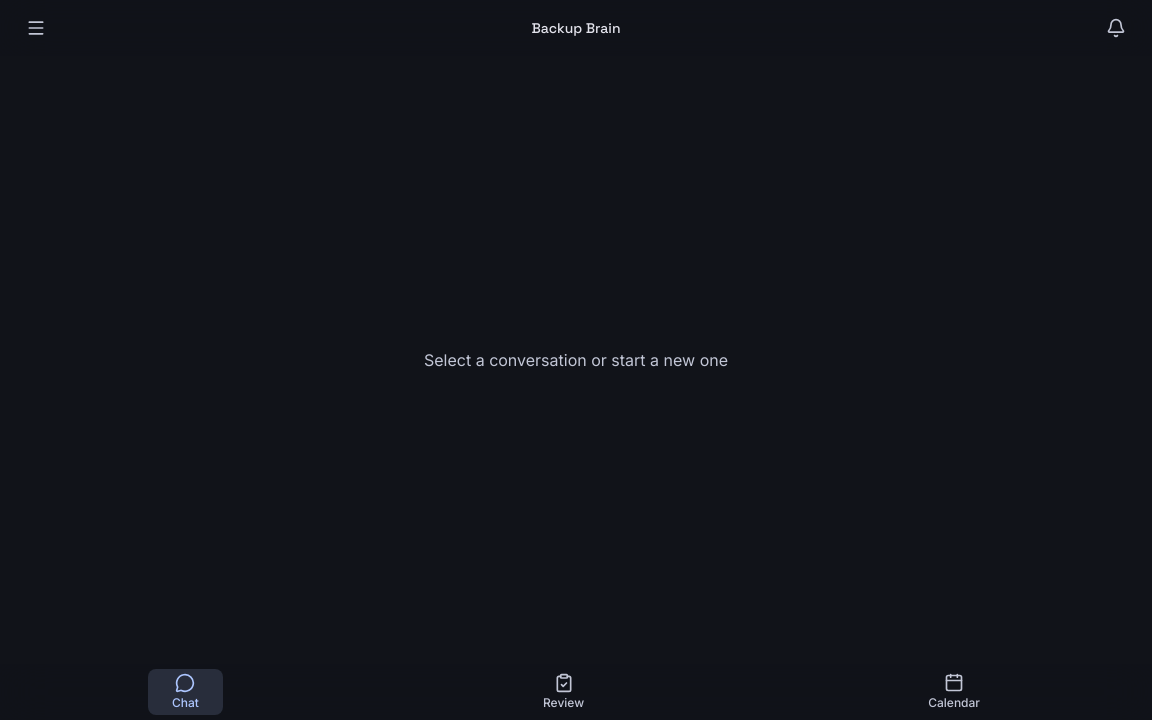
Bell icon + notifications › tapping bell icon shows notifications view
Click the button with test id "bell-button".
click(1116, 28)  # box x1=1096 y1=8 x2=1136 y2=48
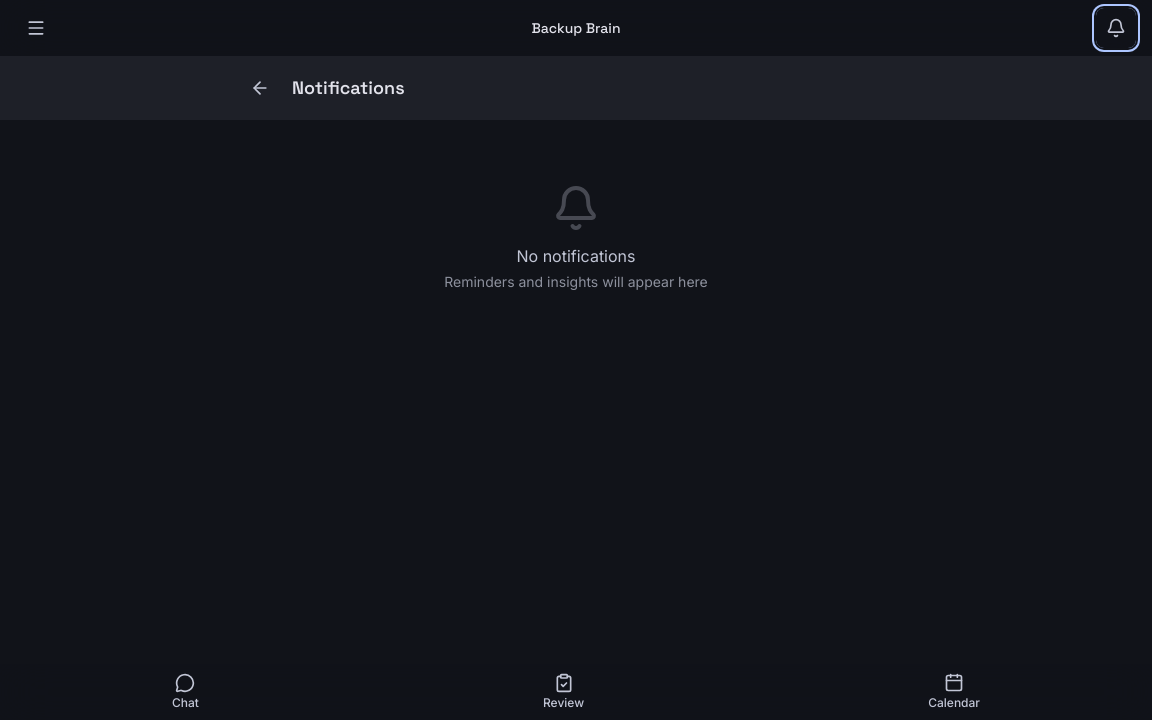
Check: the heading "Notifications" is shown, box x1=292 y1=74 x2=405 y2=102
